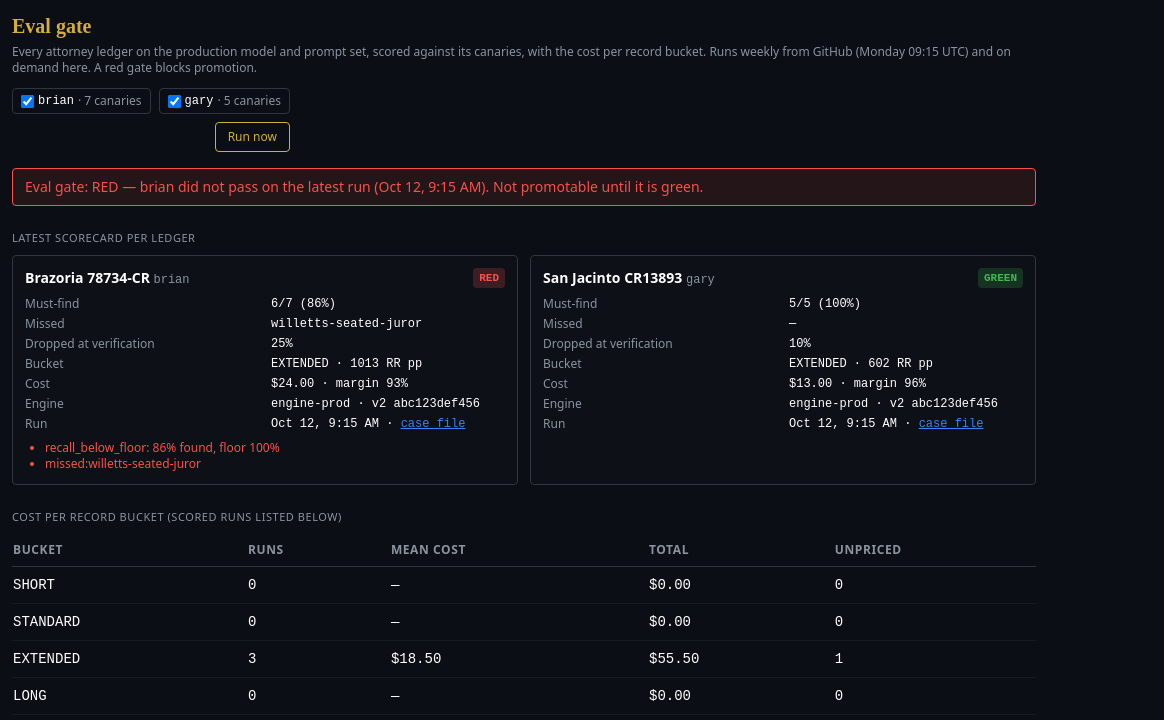
Test: /ops/eval › Run now posts to /ops/eval/runs for every ledger, or the picked ones, and reports the start
Later steps or results of the test are not shown.
Check: the element with test id "eval-verdict" is shown, box [12,168,1036,206]
Click the button with test id "eval-run-now" at point(252, 137), box [215,122,290,152]
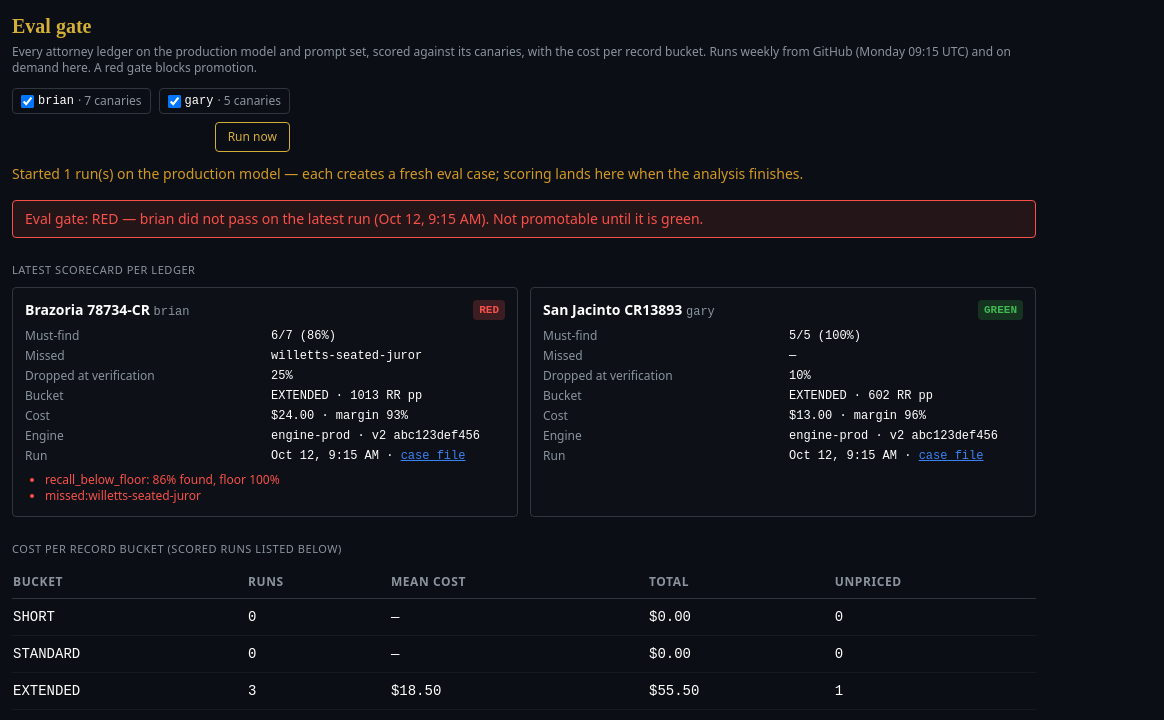
Check: the text with test id "eval-notice" shows "Started 1 run", box [12,164,803,183]
